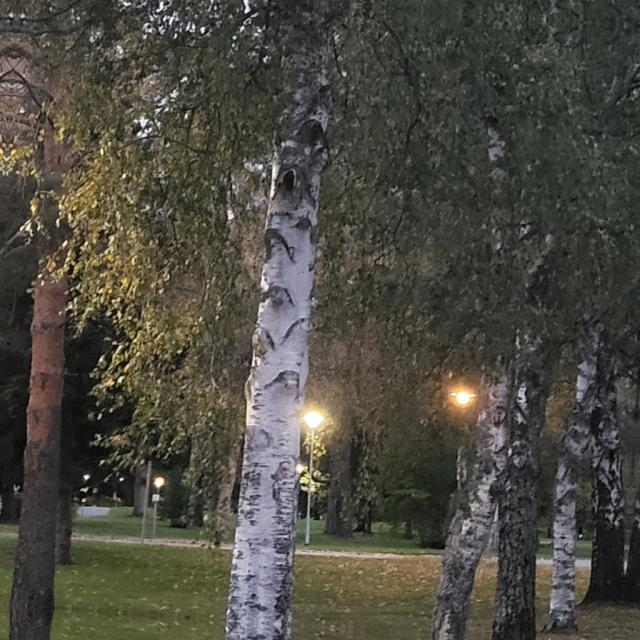Birch: (222, 58, 330, 640), (424, 235, 514, 637), (556, 331, 604, 628), (587, 378, 627, 606)
